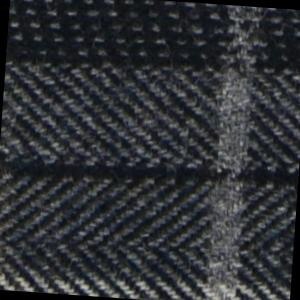Oil Stain: (1, 244, 12, 291)
